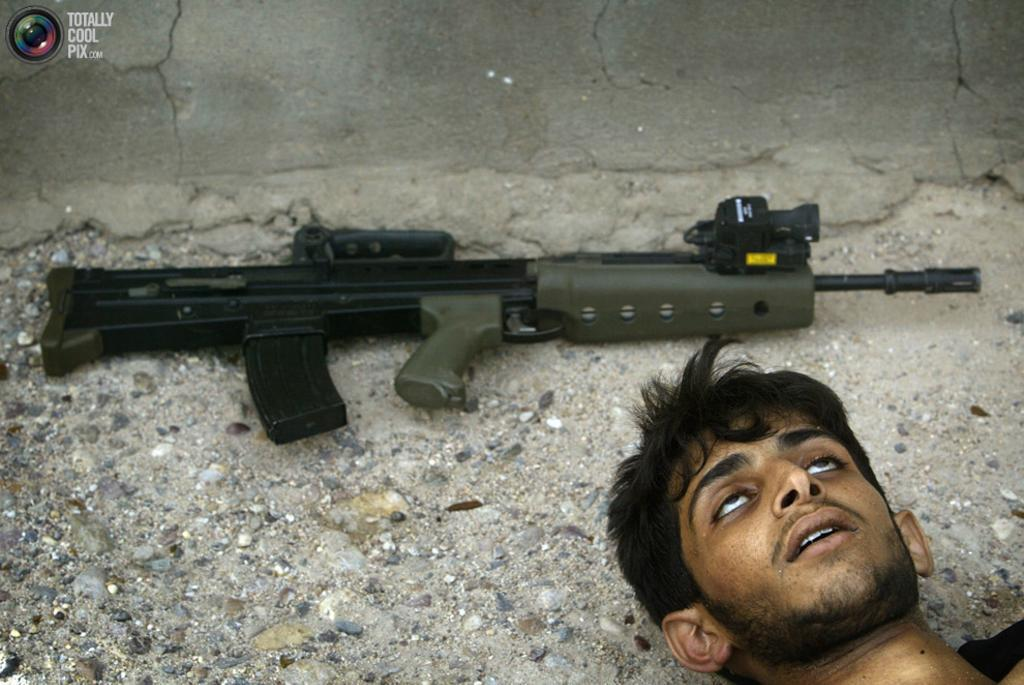face: (677, 411, 881, 615)
